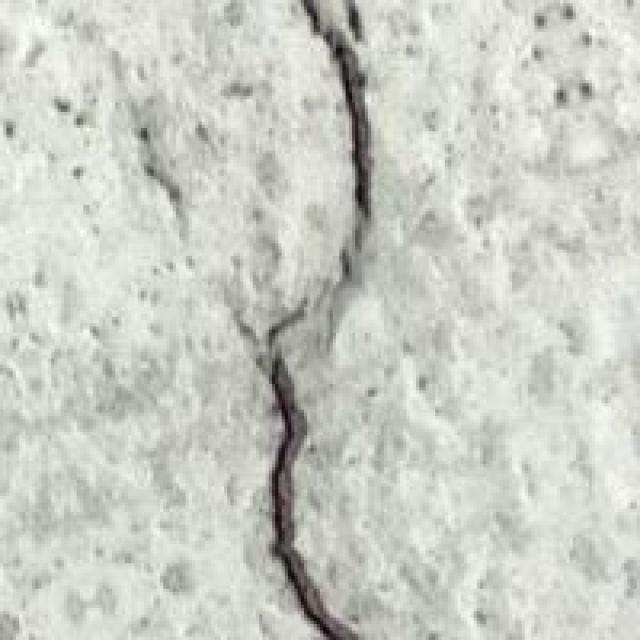Crack: (144, 0, 480, 637)
